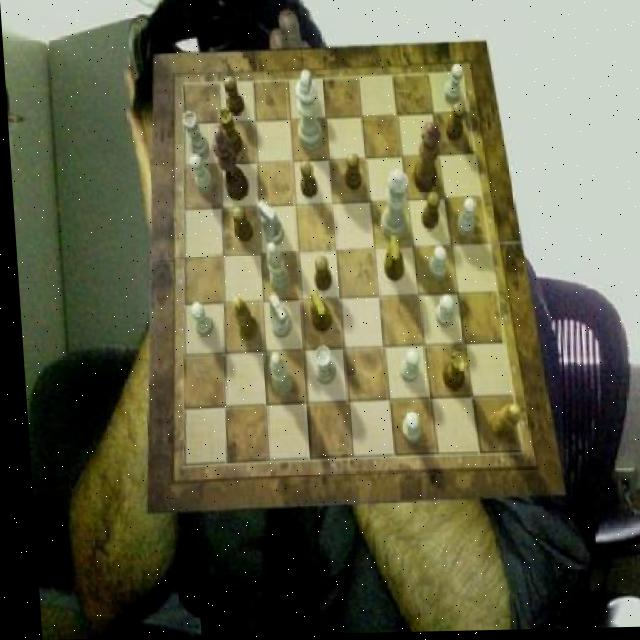bishop: (482, 405, 515, 443), (228, 297, 254, 343)
black-bishop: (209, 125, 246, 202)
black-king: (379, 236, 401, 283), (304, 290, 327, 334)
black-knight: (443, 106, 465, 145), (228, 208, 250, 245), (416, 194, 437, 232), (222, 78, 243, 116), (297, 72, 316, 112), (295, 161, 314, 199), (309, 256, 328, 292), (340, 156, 358, 193)
black-pawn: (408, 123, 442, 195)
black-queen: (216, 110, 241, 158), (436, 354, 464, 394)
black-rook: (261, 243, 286, 294), (264, 354, 289, 396)
white-bishop: (293, 71, 321, 153)
white-king: (255, 201, 281, 248), (264, 294, 288, 339)
white-knight: (188, 155, 212, 194), (441, 66, 464, 106), (451, 200, 473, 238), (186, 303, 209, 338), (393, 350, 414, 384), (430, 297, 451, 331), (423, 248, 444, 282), (395, 413, 416, 446)
white-pawn: (374, 170, 408, 242)
white-queen: (180, 114, 207, 162), (307, 347, 330, 387)
